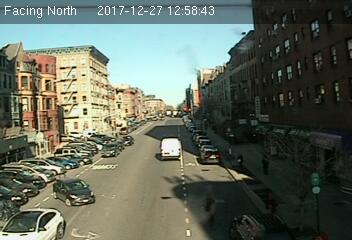car: (228, 209, 293, 240), (52, 178, 94, 206), (200, 146, 221, 165), (101, 144, 119, 156)
truck: (159, 137, 183, 159)
